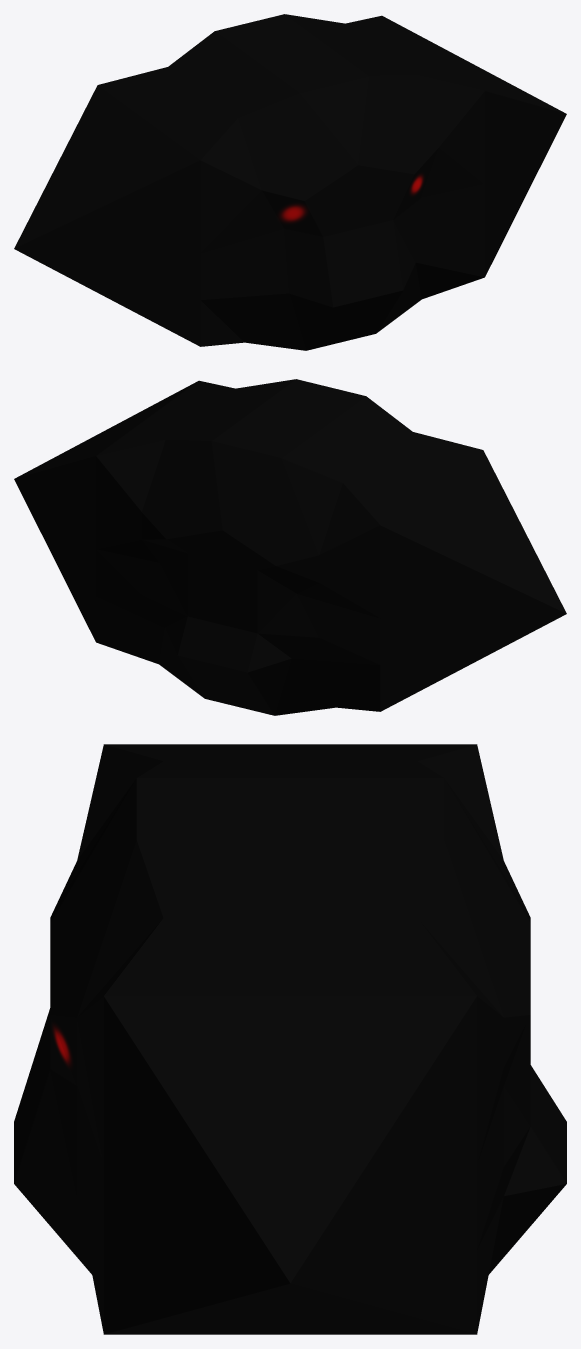
Rendered from head.obj.
The picture shows the model from 3 angles, top to bottom: view 1: azimuth 30°, elevation 25°; view 2: azimuth 150°, elevation 25°; view 3: azimuth 270°, elevation 25°; orthographic projection. The views are drawn at different scales.
Parts seen in each view (by area): view 1: Cube; view 2: Cube; view 3: Cube.
Boxes of the visible parts, x1,y1,x2,y2 form: Cube: (14,14,566,350); Cube: (14,379,566,715); Cube: (14,744,566,1334).
Size of the model in its own units: 3.95 by 1.73 by 1.89.
1 material, 1 textured.
